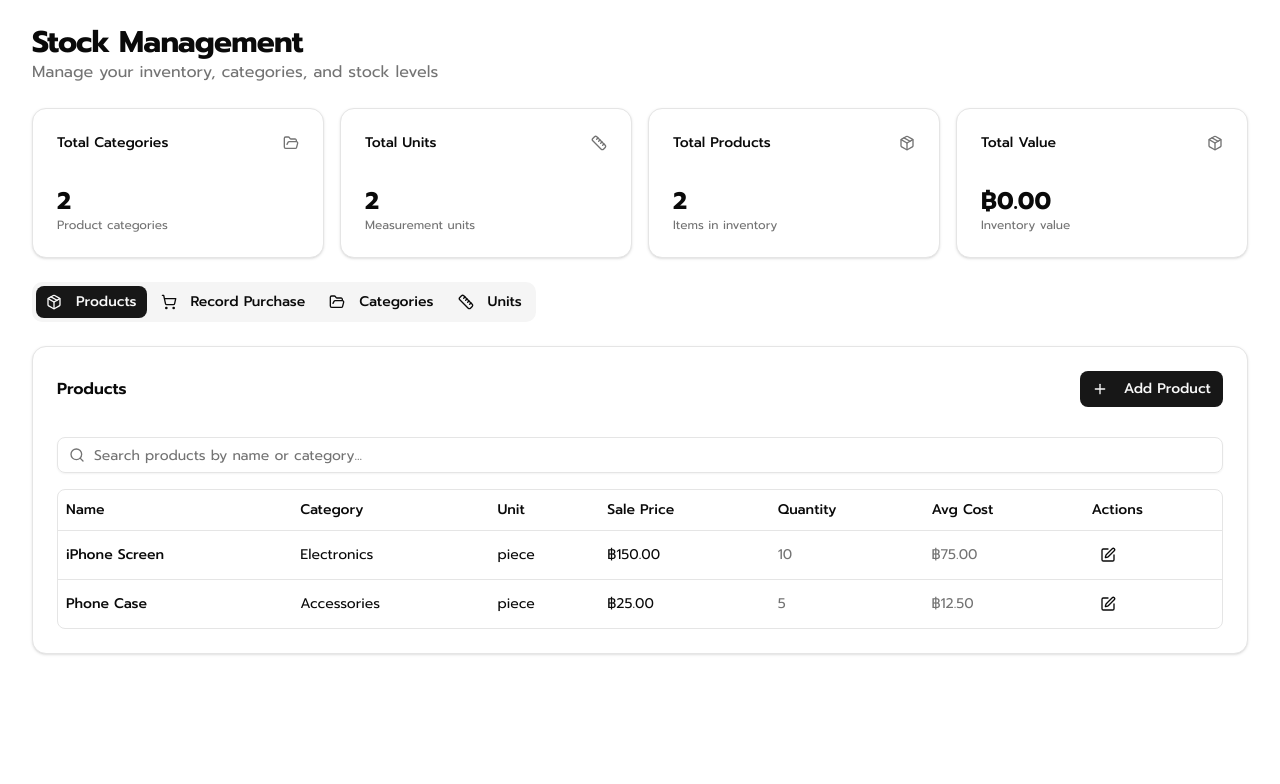
StockPage - Purchase Recording › shows loading state when creating purchase
Click the button "Record Purchase".
click(233, 302)  # box [150,286,315,318]
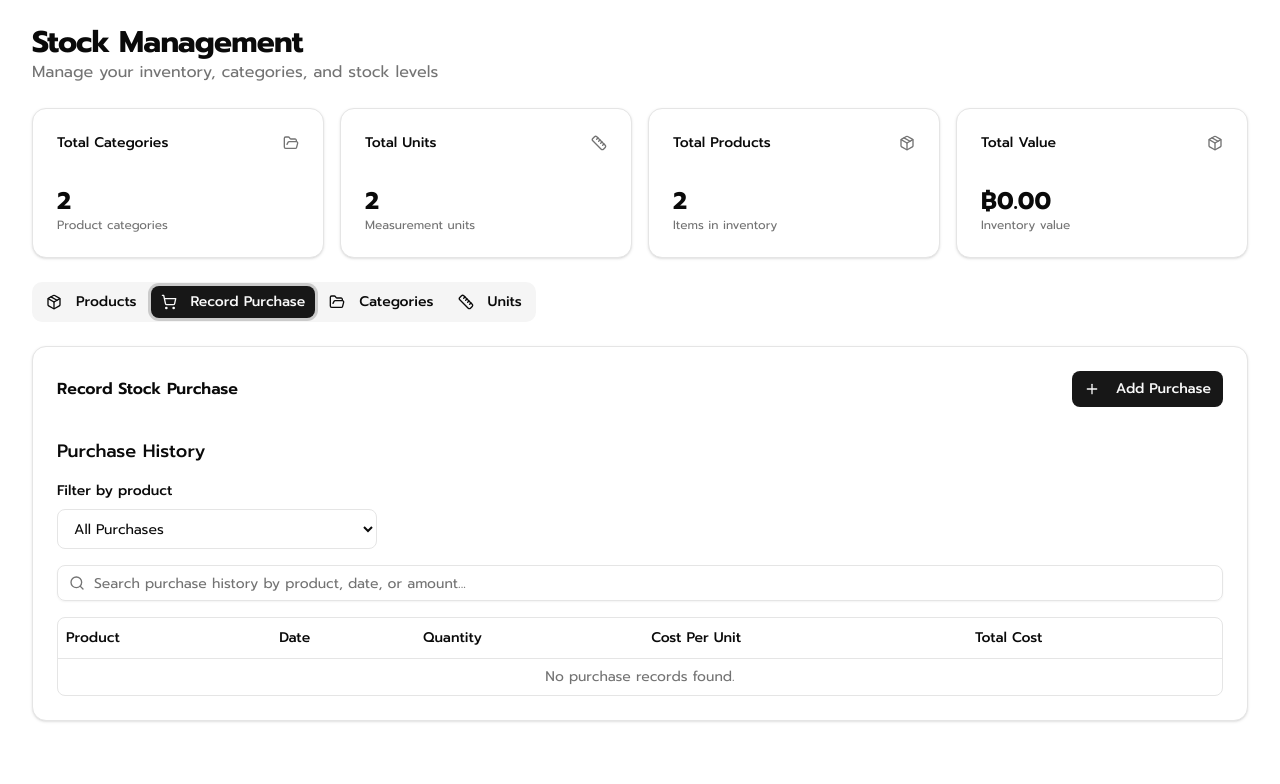
Click the button "Add Purchase".
click(1147, 389)  # box [1072,371,1223,407]
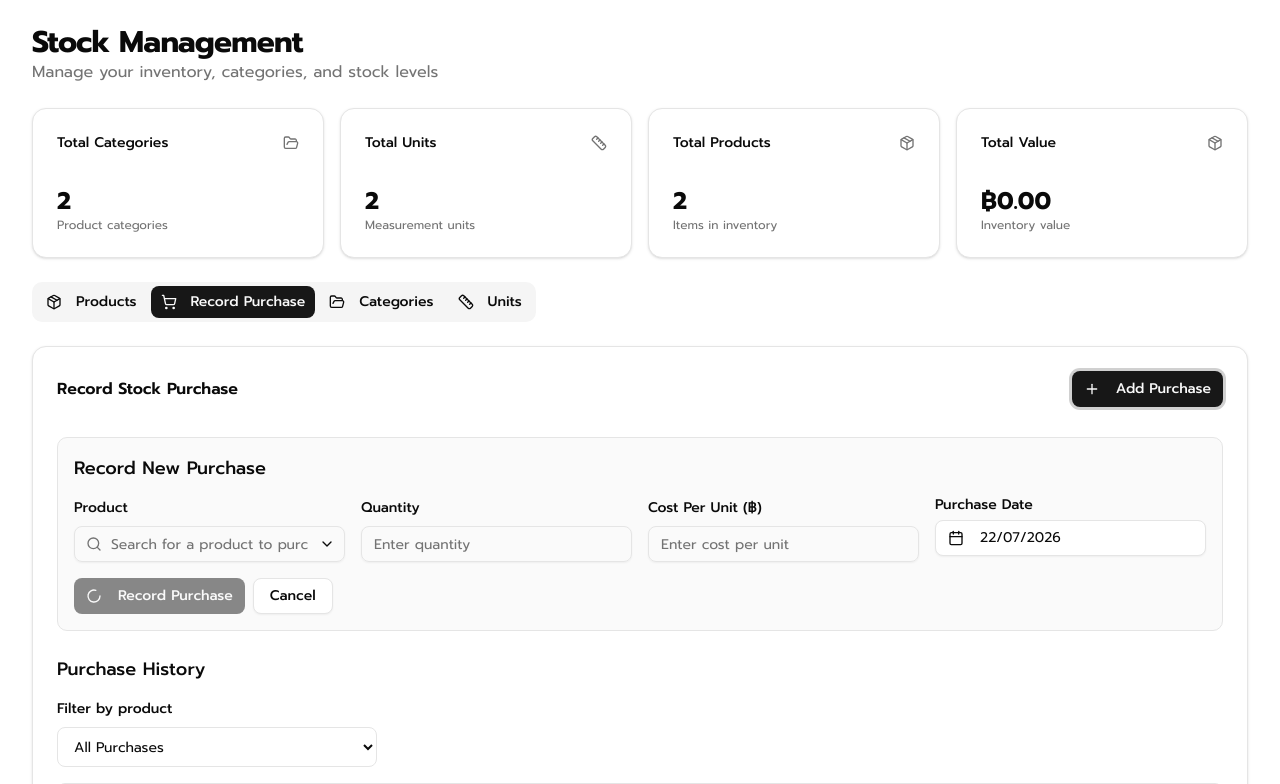
Now the button "Record Purchase" below "Record New Purchase" is disabled, box [74,578,245,614]
